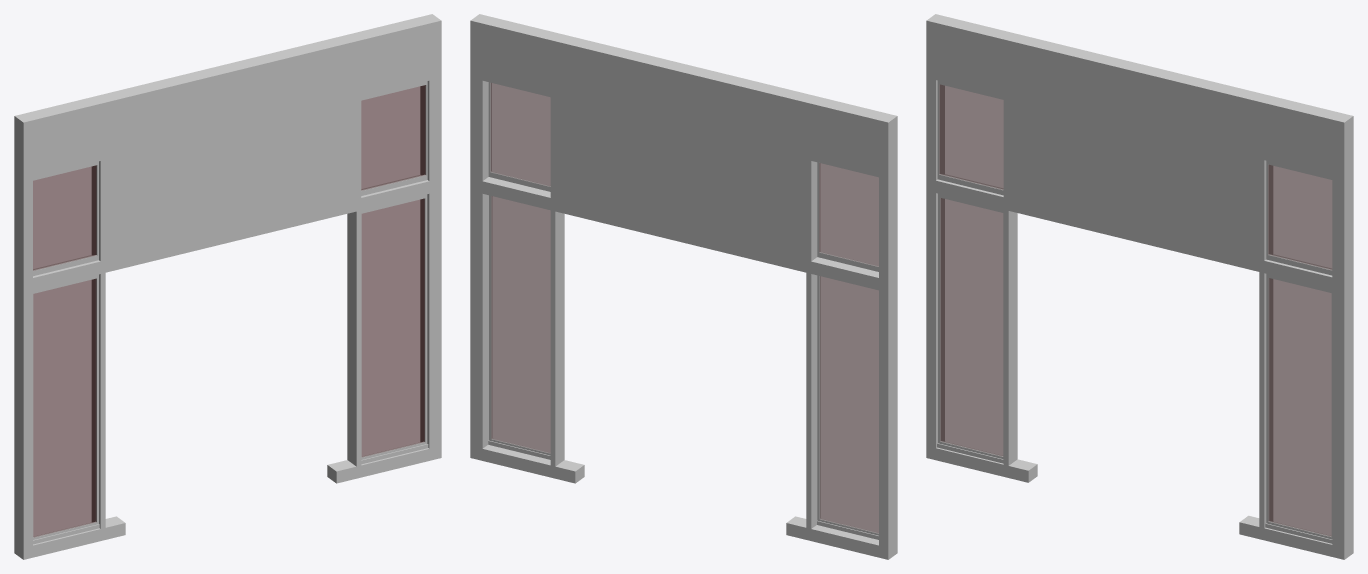
Rendered from Wall With Windows Set 7.FBX.
3 renders of one model, left to right at view 1: azimuth 30°, elevation 25°; view 2: azimuth 150°, elevation 25°; view 3: azimuth 330°, elevation 25°, orthographic.
Parts seen in each view (by area): view 1: wall with windows set 7; view 2: wall with windows set 7; view 3: wall with windows set 7.
Boxes of the visible parts, <box> form: wall with windows set 7: <box>14,14,441,559</box>; wall with windows set 7: <box>470,14,897,559</box>; wall with windows set 7: <box>926,14,1353,559</box>.
Bounding box in the file's own units: 400 × 400 × 15.
